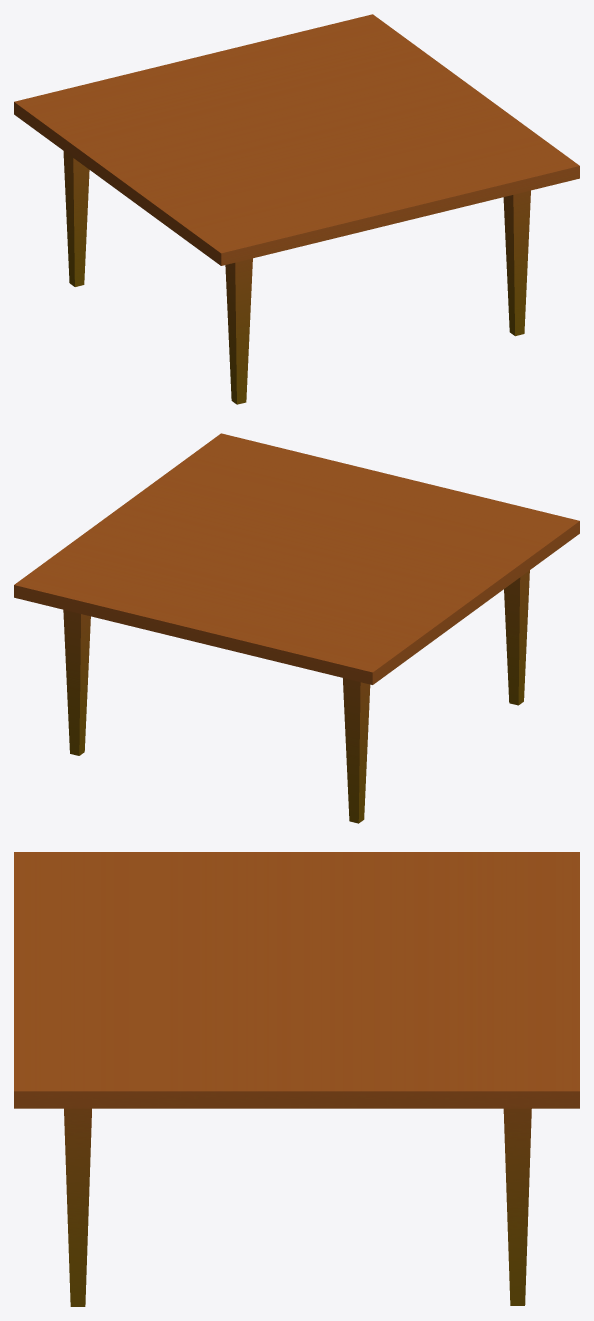
File: Table.fbx
3 renders of one model, top to bottom at view 1: azimuth 30°, elevation 25°; view 2: azimuth 150°, elevation 25°; view 3: azimuth 270°, elevation 25°, orthographic. The views are drawn at different scales.
Parts seen in each view (by area): view 1: Table; view 2: Table; view 3: Table.
Part boxes in pixels (x1,y1,x2,y2): Table: [14, 14, 579, 404]; Table: [14, 433, 579, 823]; Table: [14, 852, 579, 1306].
Bounding box in the file's own units: 1.65 × 0.767 × 1.65.
